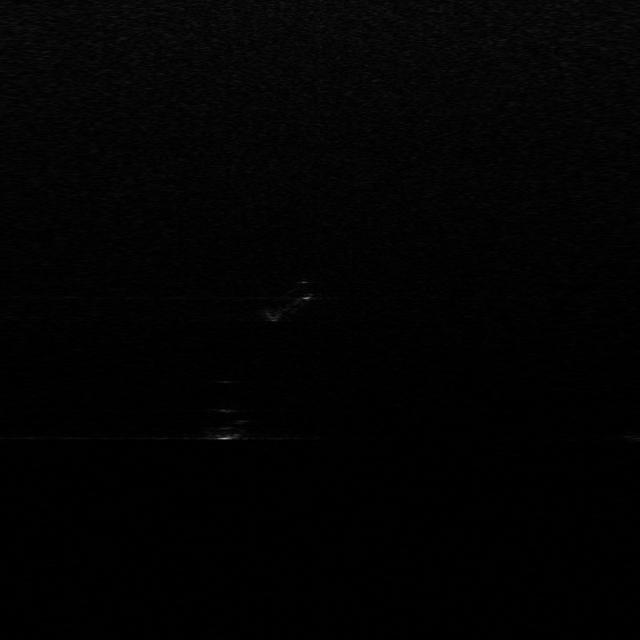ball: (192, 405, 252, 440)
tyre: (261, 284, 318, 320)
